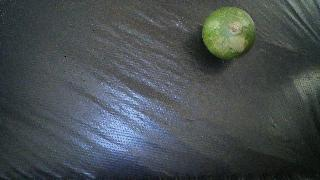DESECHO: (202, 7, 256, 60)
